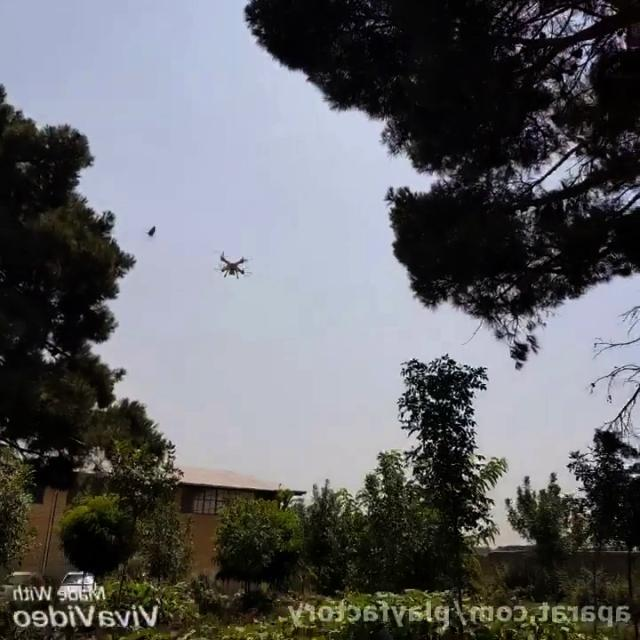drone: (212, 247, 256, 284)
